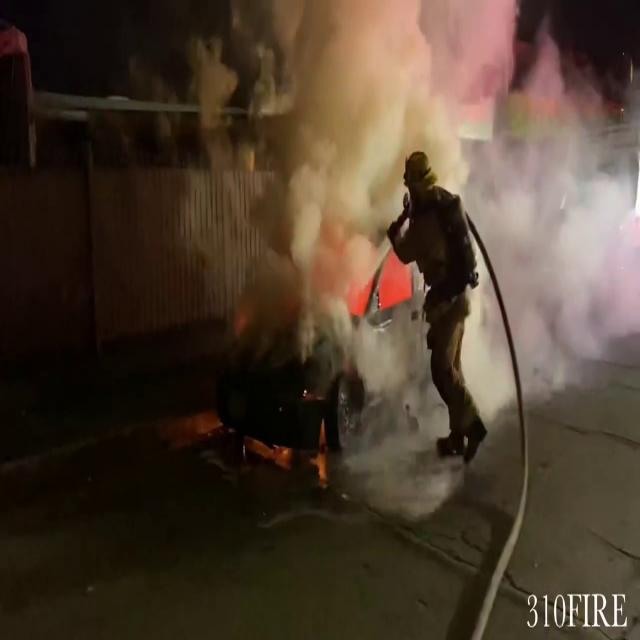Smoke: (260, 0, 640, 392)
